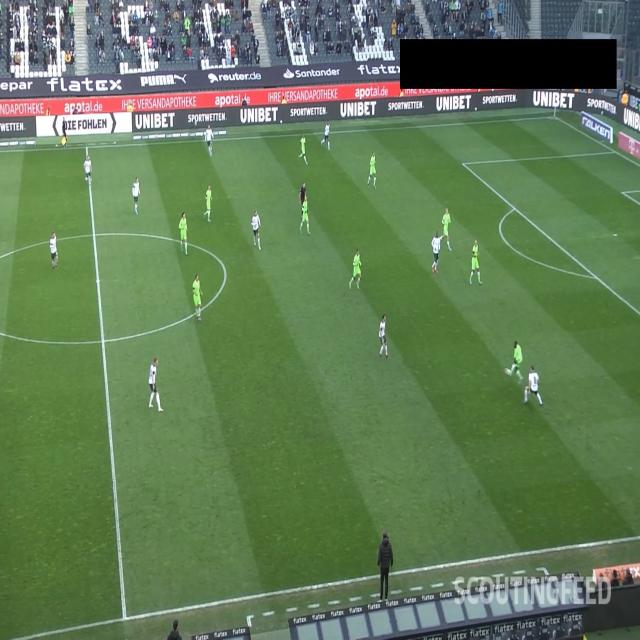ball: (503, 367, 511, 376)
